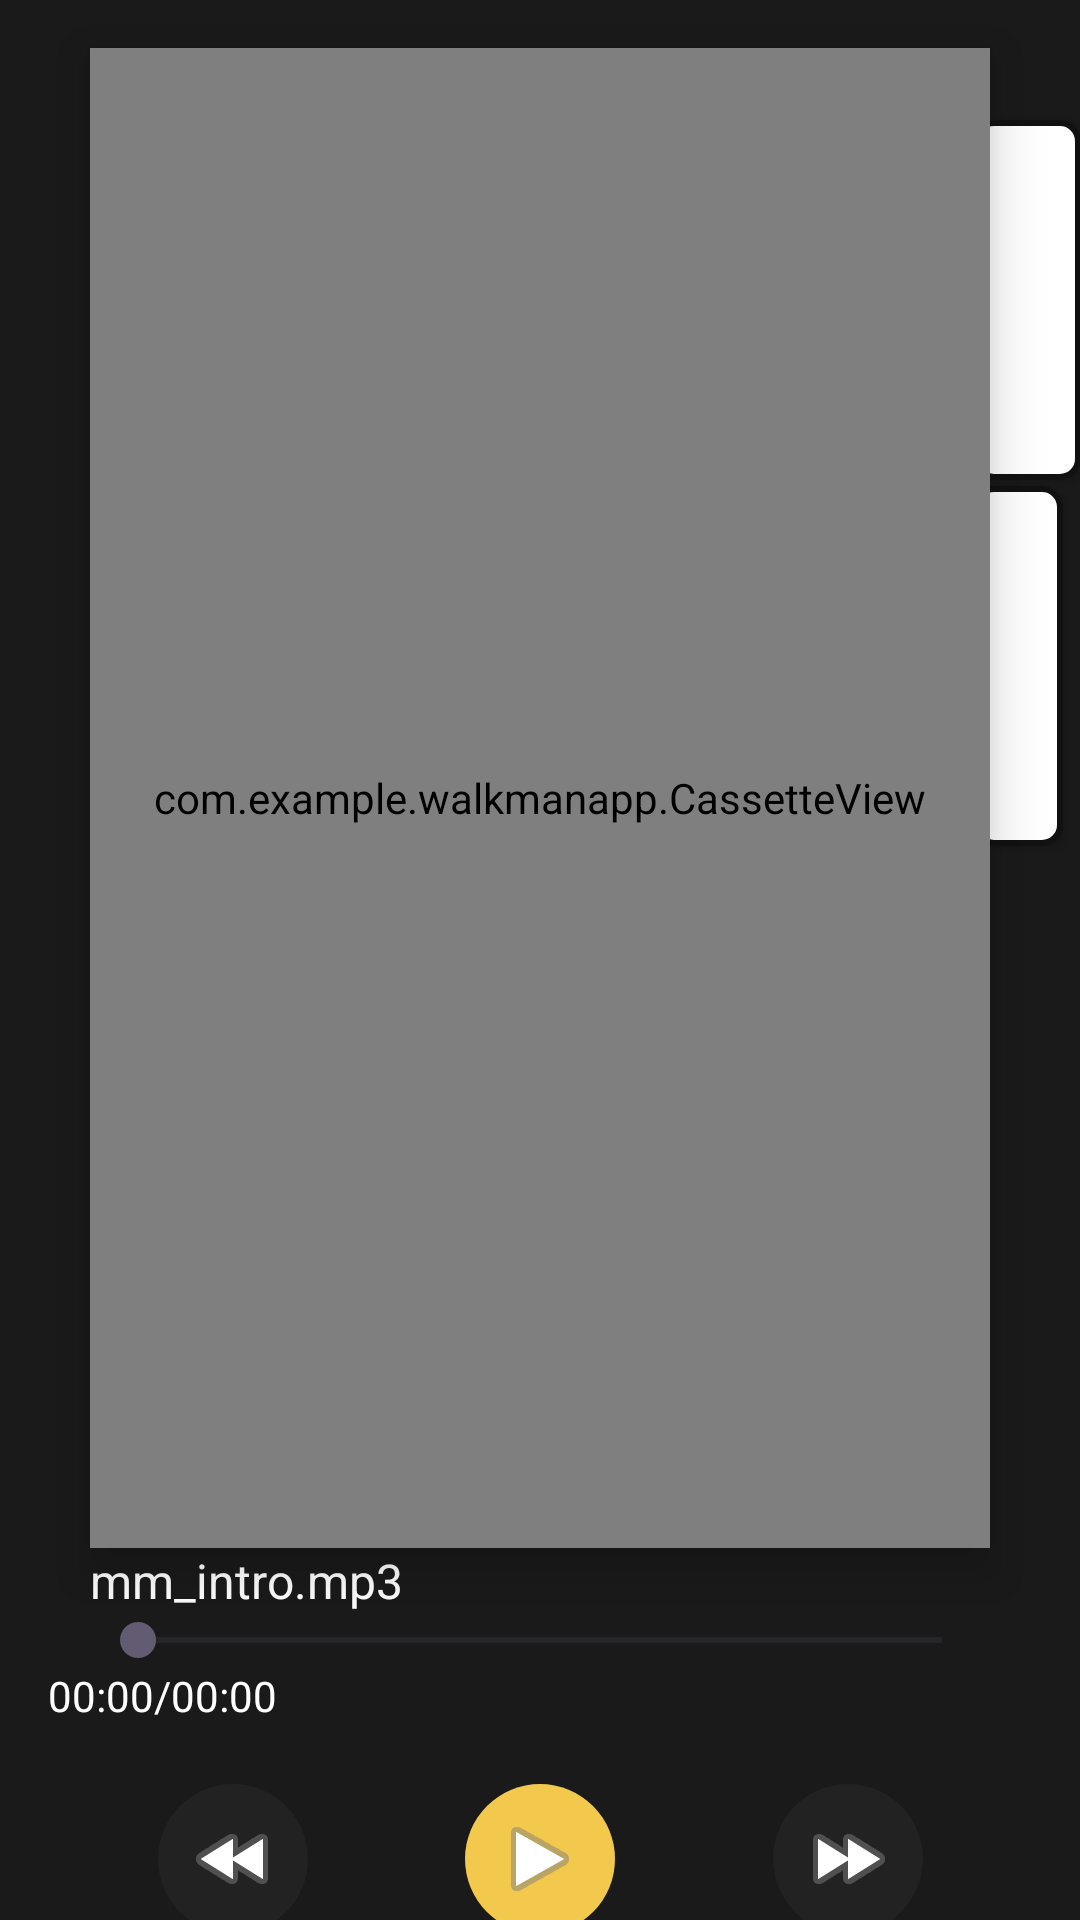

Locate icon controls on the screen. Image size 1080 x 1920, boxes as (x1, y1, x2, y2).
play: (465, 1784, 615, 1920)
rew: (196, 1834, 268, 1884)
